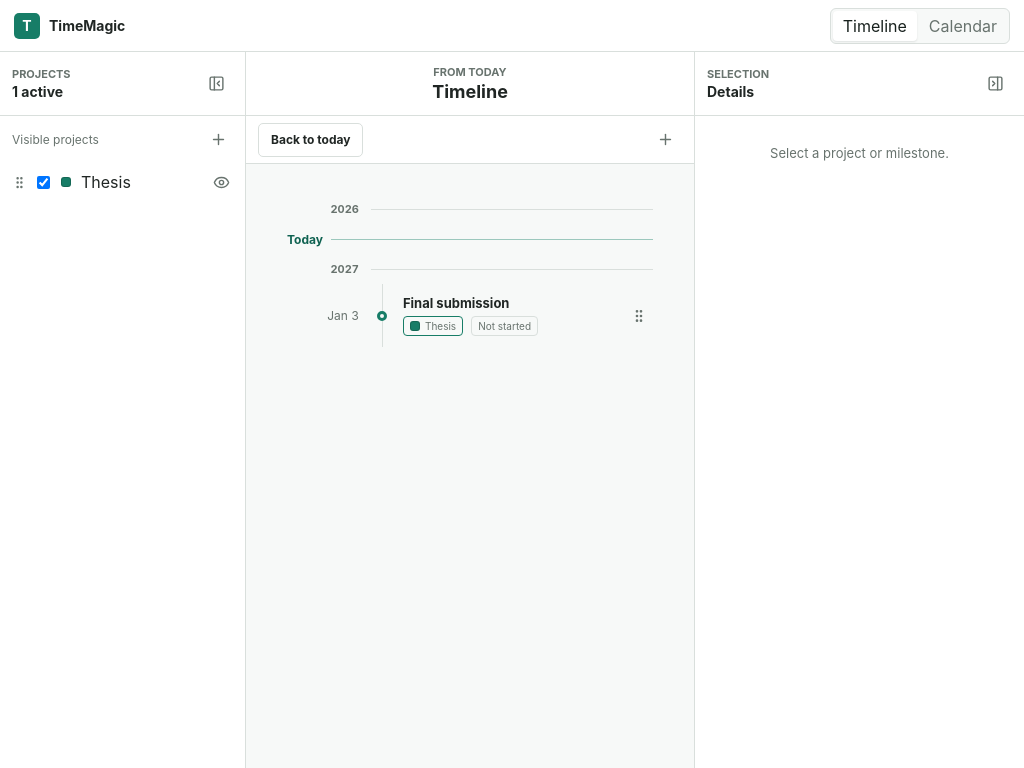
App › renders the three-pane workspace and switches primary views
Expected: the navigation bar "Projects" is shown, [0, 52, 246, 767]
Expected: the element "Timeline" is shown, [246, 52, 694, 767]
Click the button "Calendar". click: (963,26)
box: [919, 10, 1007, 40]
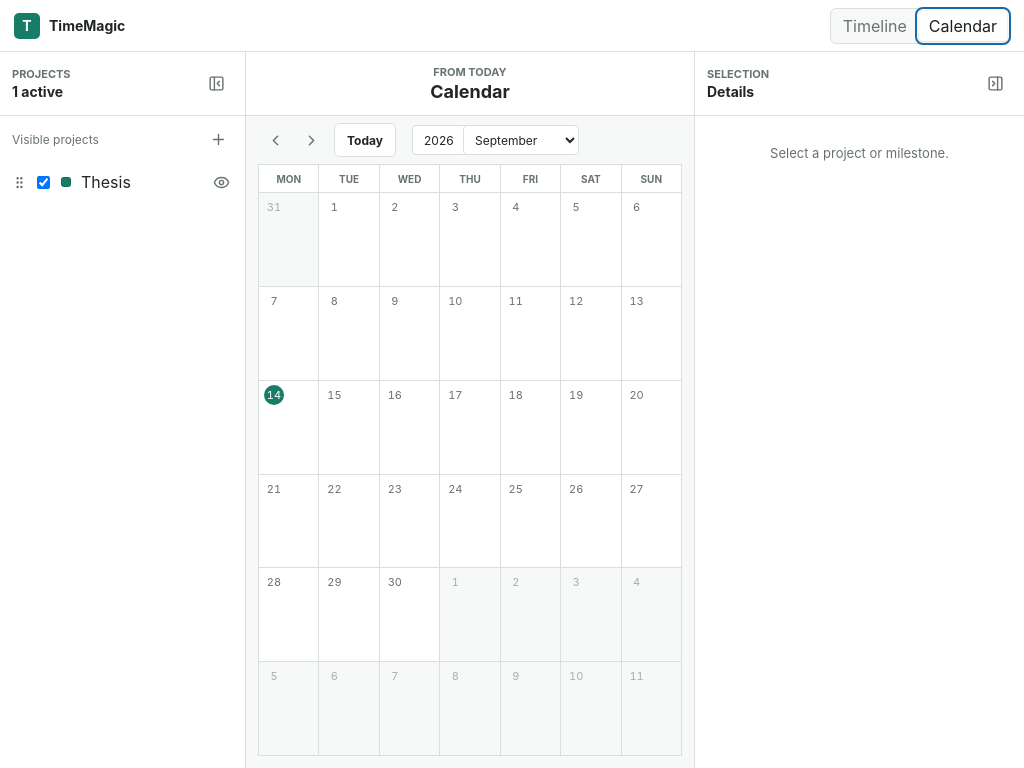
Now the element "Calendar" is shown, box [246, 52, 694, 767]
